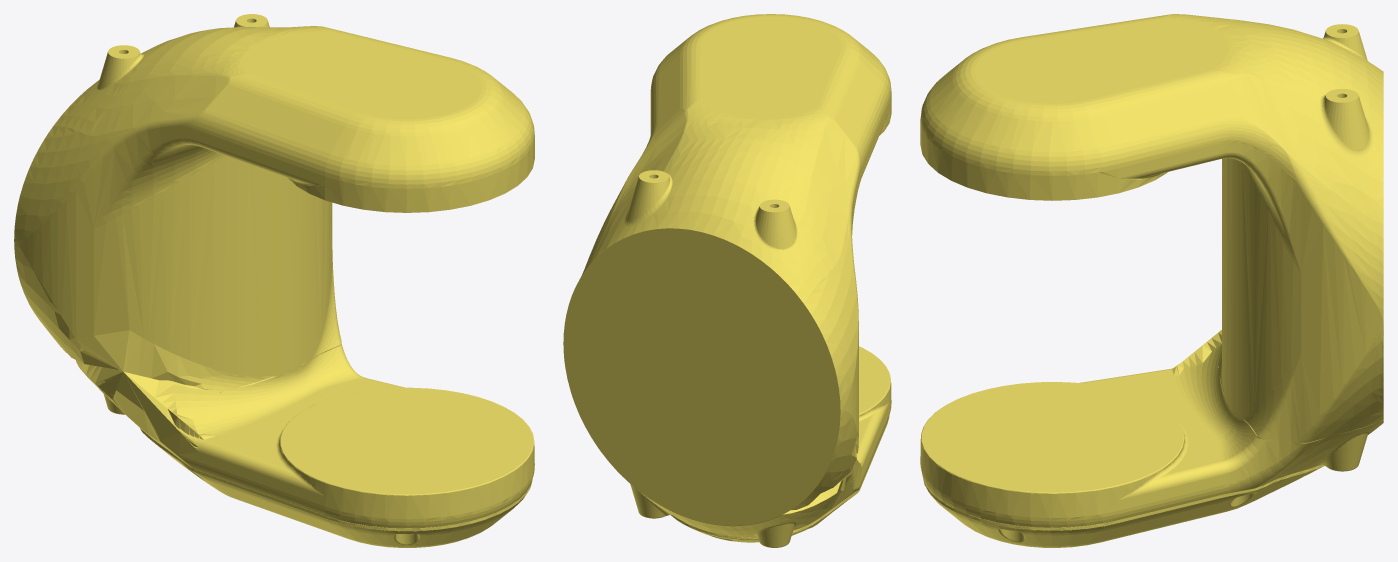
File: FanucLRMate200iCLink1.dae
3 renders of one model, left to right at view 1: azimuth 30°, elevation 25°; view 2: azimuth 150°, elevation 25°; view 3: azimuth 270°, elevation 25°, orthographic. The views are drawn at different scales.
Visible parts, largest first — view 1: Fanuc200iDLink1; view 2: Fanuc200iDLink1; view 3: Fanuc200iDLink1.
Boxes of the visible parts, left/top/right/bottom form: Fanuc200iDLink1: left=14, top=14, right=534, bottom=547; Fanuc200iDLink1: left=563, top=14, right=891, bottom=547; Fanuc200iDLink1: left=920, top=14, right=1383, bottom=547.
Bounding box in the file's own units: 0.199 × 0.224 × 0.235.
